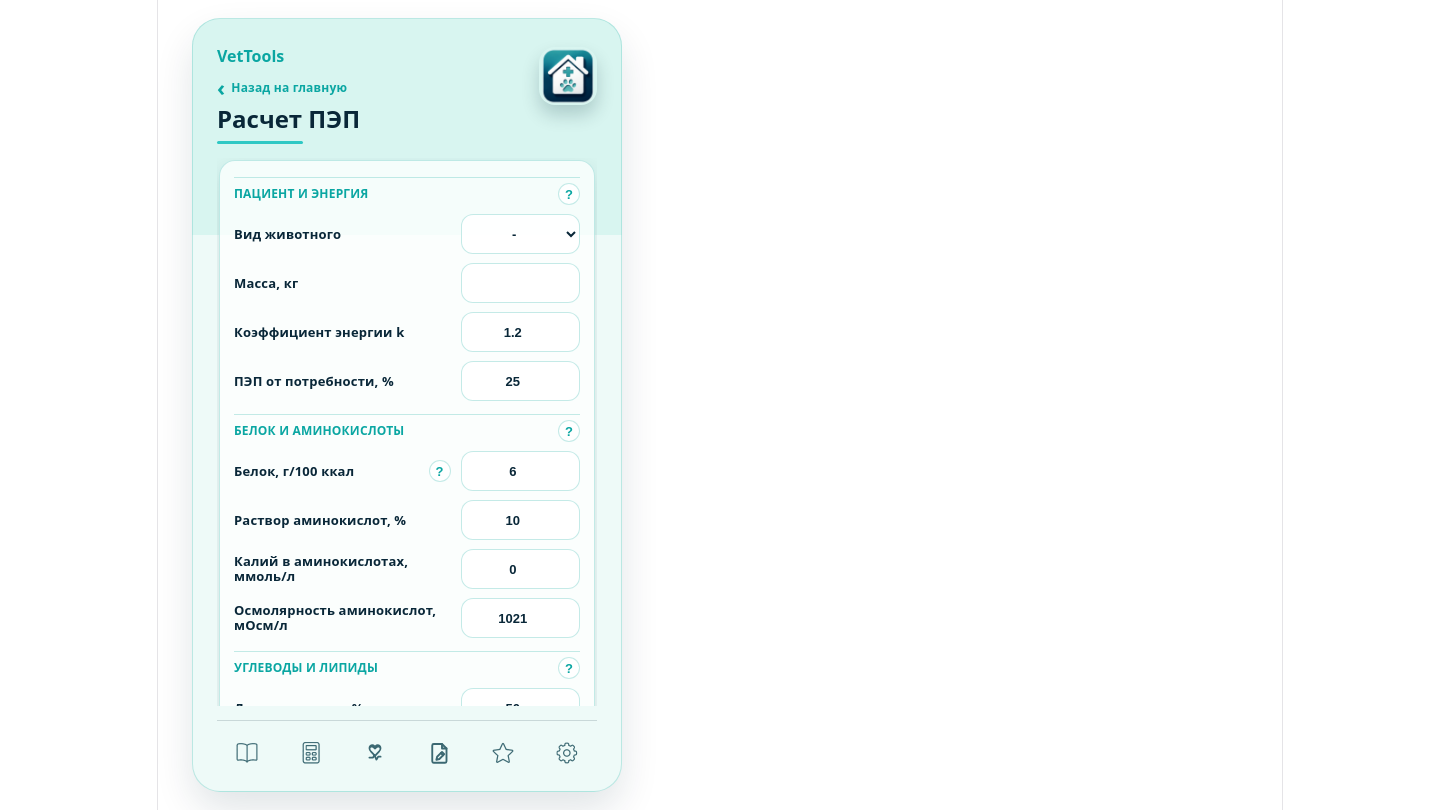
Test case: PepPage › warns when energy and fluid inputs are outside workbook comments
In the number field named "Масса, кг": (520, 284) top-left (460, 264), bottom-right (580, 304), type "4"
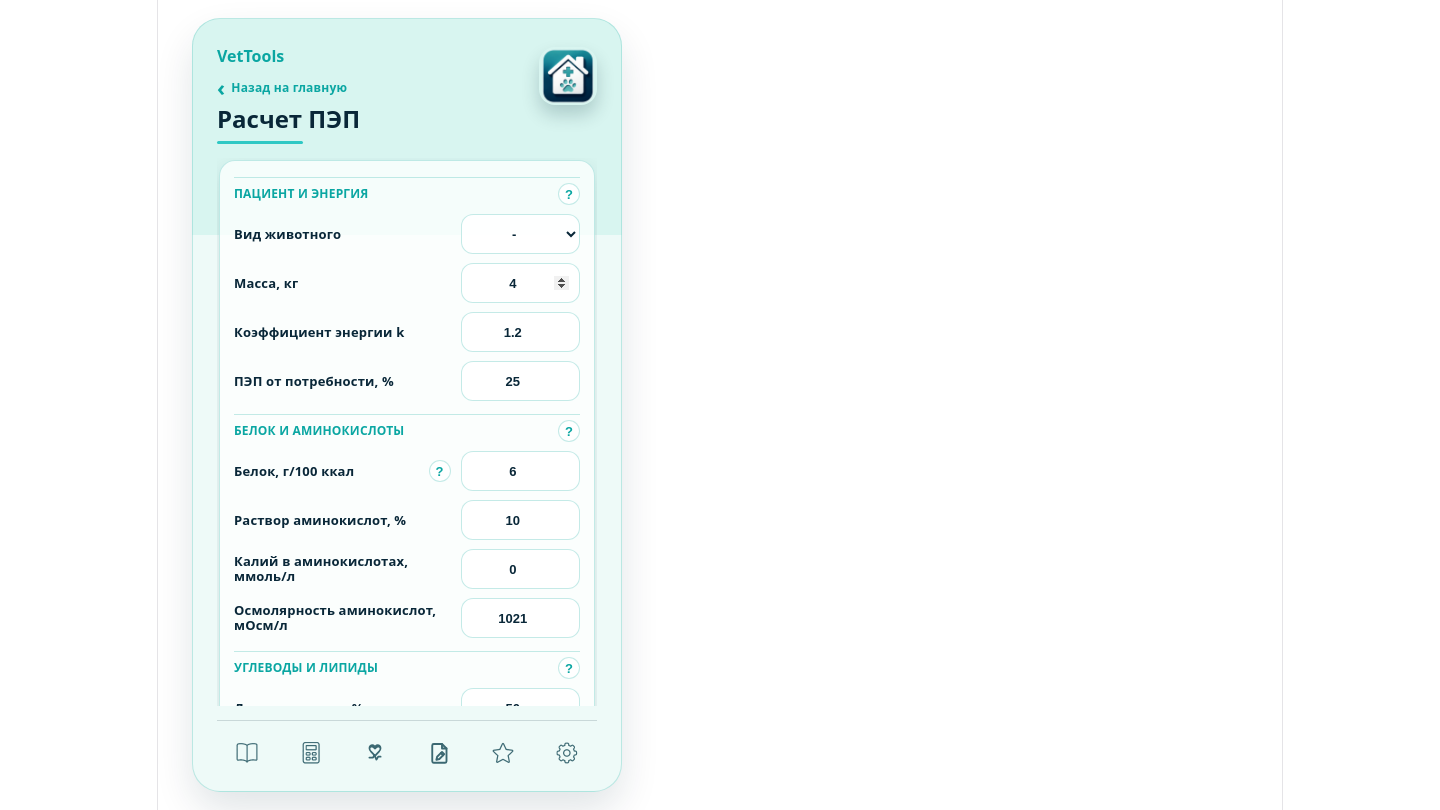
Replace the text in the number field named "Коэффициент энергии k" with "1.5": (520, 332) top-left (460, 312), bottom-right (580, 352)
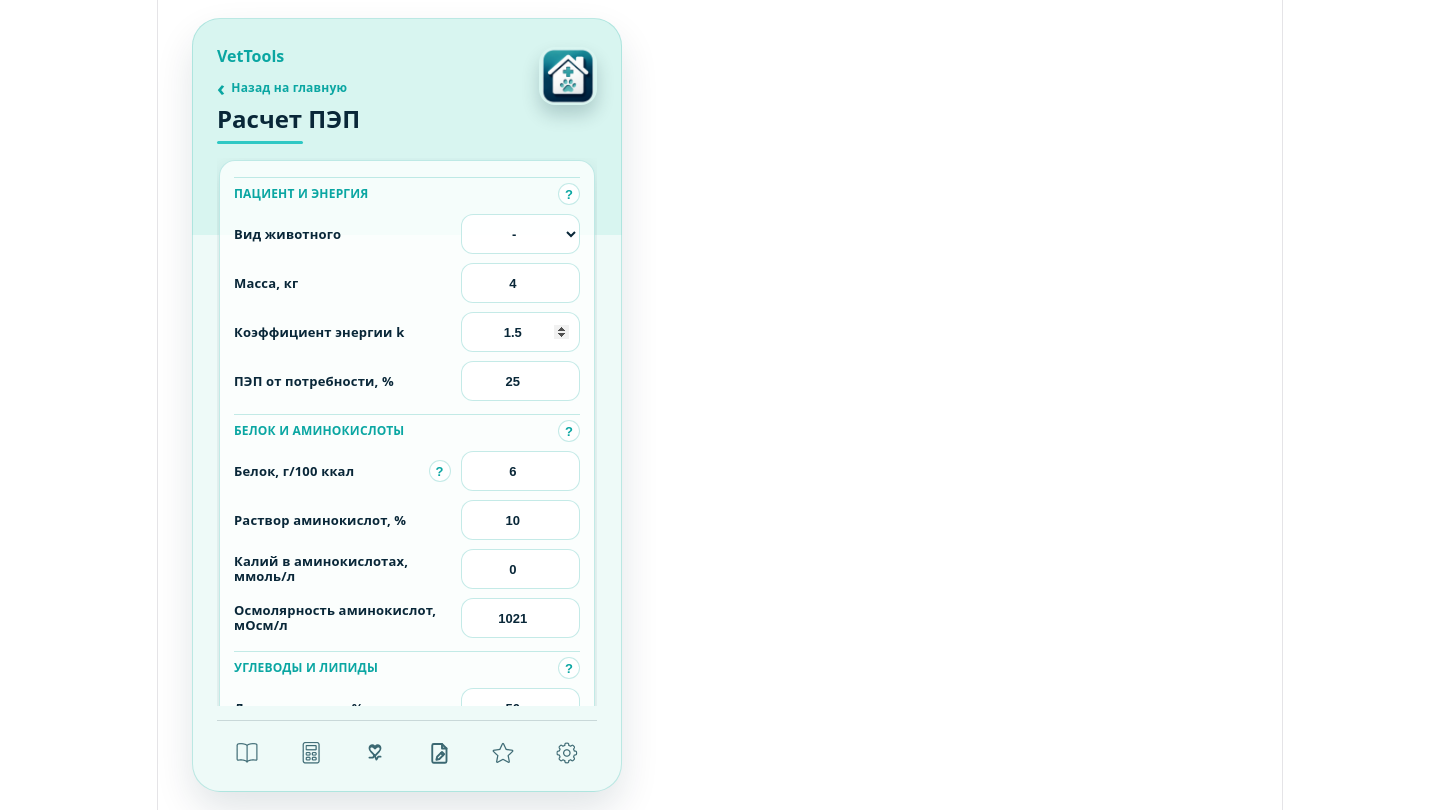
Replace the text in the number field named "ПЭП от потребности, %" with "120": (520, 382) top-left (460, 362), bottom-right (580, 402)
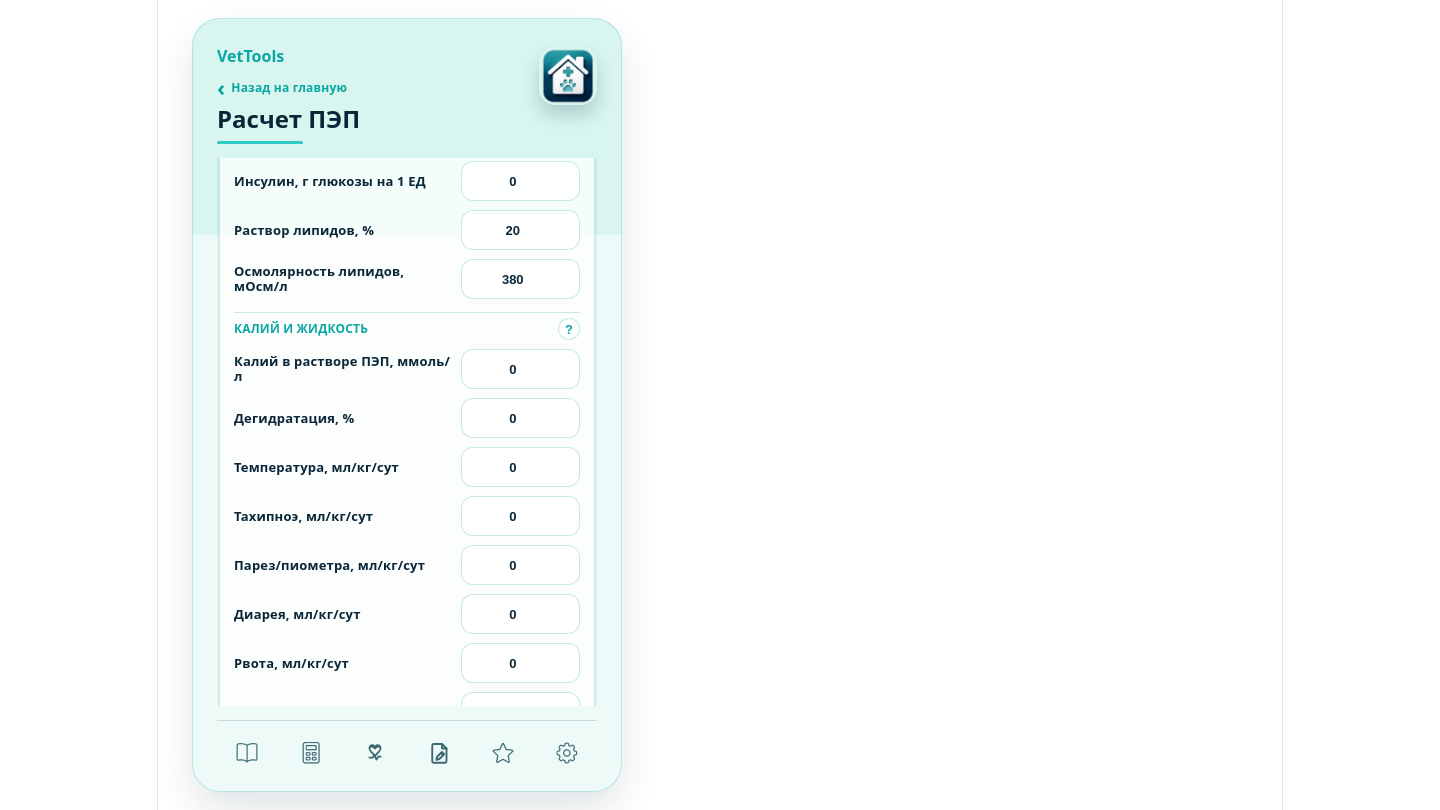
Replace the text in the number field named "Дегидратация, %" with "6": (520, 418) top-left (460, 398), bottom-right (580, 438)
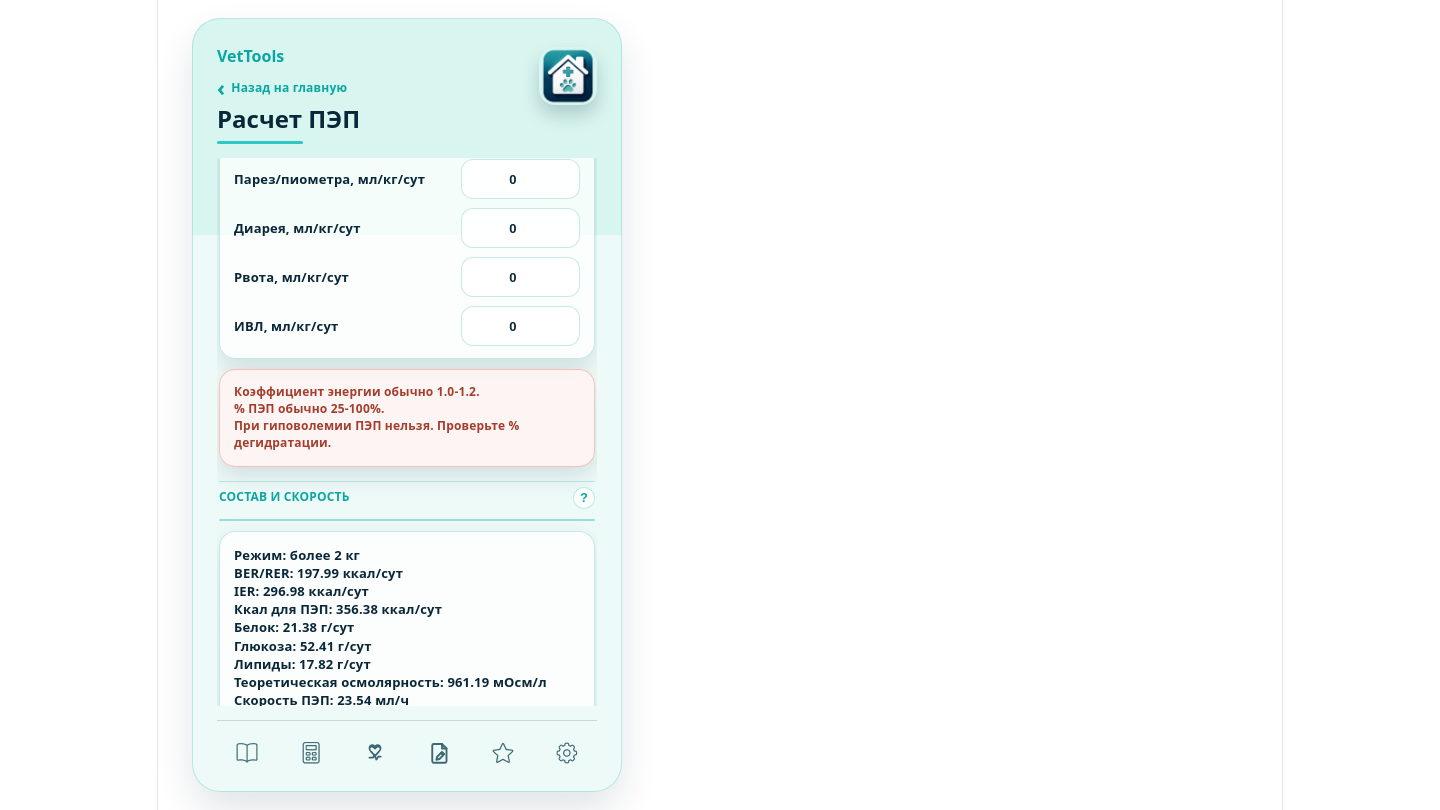
Check: the message shows "Коэффициент энергии обычно 1.0-1.2.", box top-left (234, 384), bottom-right (520, 451)
Check: the message shows "% ПЭП обычно 25-100%.", box top-left (234, 384), bottom-right (520, 451)
Check: the message shows "При гиповолемии ПЭП нельзя.", box top-left (234, 384), bottom-right (520, 451)
